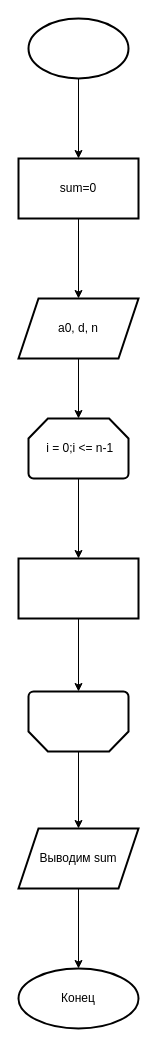
Some shapes in this 156 by 1046 pixel diagram are drawn without their labels. The centre of each missing label's shape, as x and y in pixels:
i++: point 78,721
sum = sum + a * b; a = a + d; b = -2 * b;: point 78,588
Начало: point 78,48
